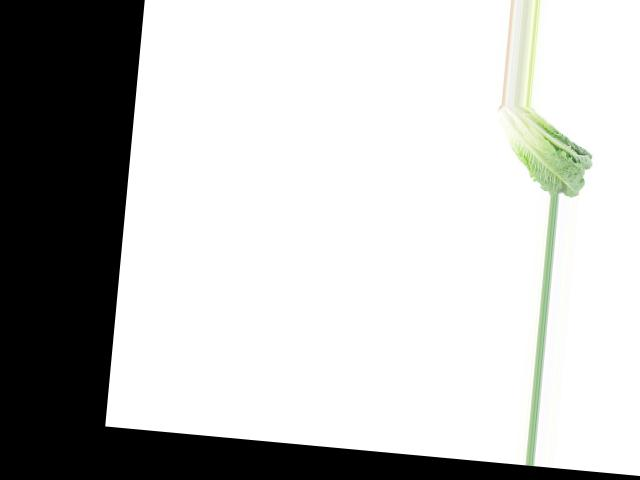lettuce: (489, 104, 598, 198)
